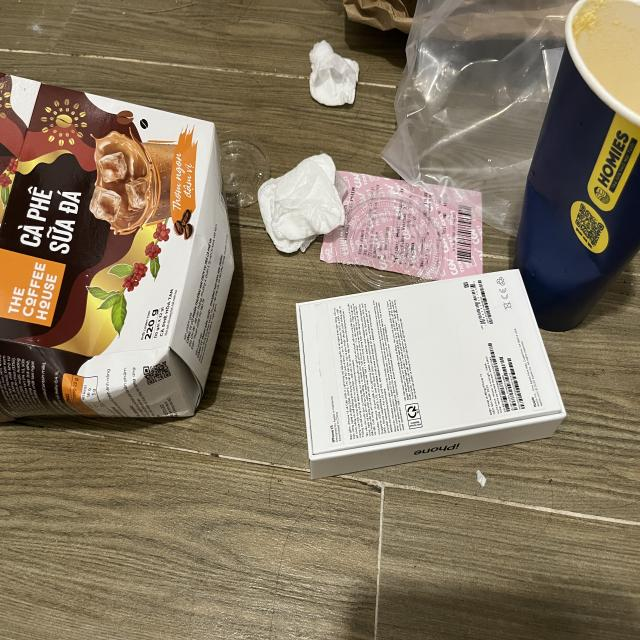bag: (379, 0, 578, 247)
cardboard box: (0, 72, 237, 420), (295, 268, 568, 482)
napkin: (260, 154, 346, 253), (310, 41, 360, 111)
paper: (320, 166, 484, 282)
plastic glass: (516, 0, 640, 333)
